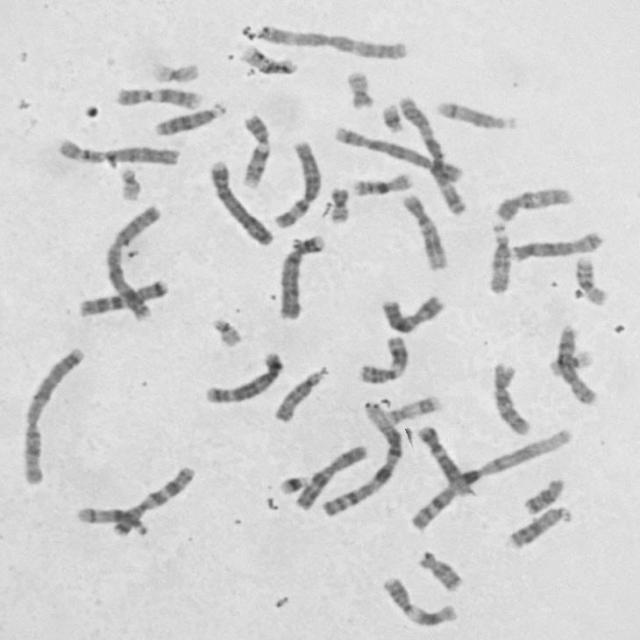A1: (406, 426, 574, 534), (317, 397, 404, 518)
A2: (17, 344, 86, 486), (102, 202, 163, 322)
A3: (397, 92, 468, 218), (252, 22, 410, 61)
B4: (206, 156, 276, 246), (274, 231, 327, 321)
B5: (331, 124, 465, 183), (201, 348, 286, 406)
C10: (491, 183, 575, 225), (488, 360, 533, 436)
C11: (380, 575, 460, 628), (354, 333, 411, 386)
C12: (415, 422, 477, 498), (400, 190, 450, 272)
C6: (270, 137, 323, 230), (52, 136, 182, 168)
C7: (108, 461, 197, 538), (75, 275, 169, 318)
C8: (558, 325, 603, 407), (507, 228, 605, 263)
C9: (238, 112, 272, 191), (112, 83, 204, 111)
D13: (505, 504, 572, 550), (152, 100, 227, 138)
D14: (434, 98, 517, 132), (73, 504, 149, 537)
D15: (270, 366, 326, 426), (485, 222, 513, 296)
E16: (572, 254, 609, 307), (349, 170, 414, 198)
E17: (237, 43, 300, 77), (383, 392, 443, 425)
E18: (416, 548, 464, 594), (520, 476, 566, 516)
F19: (546, 347, 594, 376), (150, 60, 201, 85)
F20: (343, 67, 375, 111), (327, 185, 352, 225)
G21: (380, 101, 405, 134), (276, 472, 310, 496)
G22: (208, 315, 244, 348), (116, 164, 144, 202)
X: (291, 441, 371, 512), (376, 292, 447, 336)
